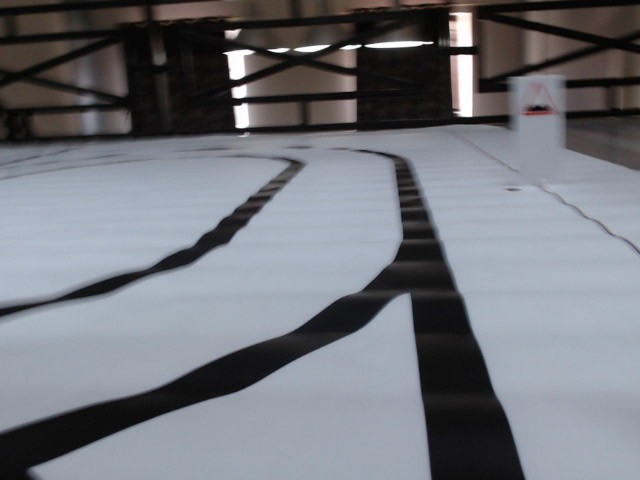Nerov: (526, 83, 557, 117)
